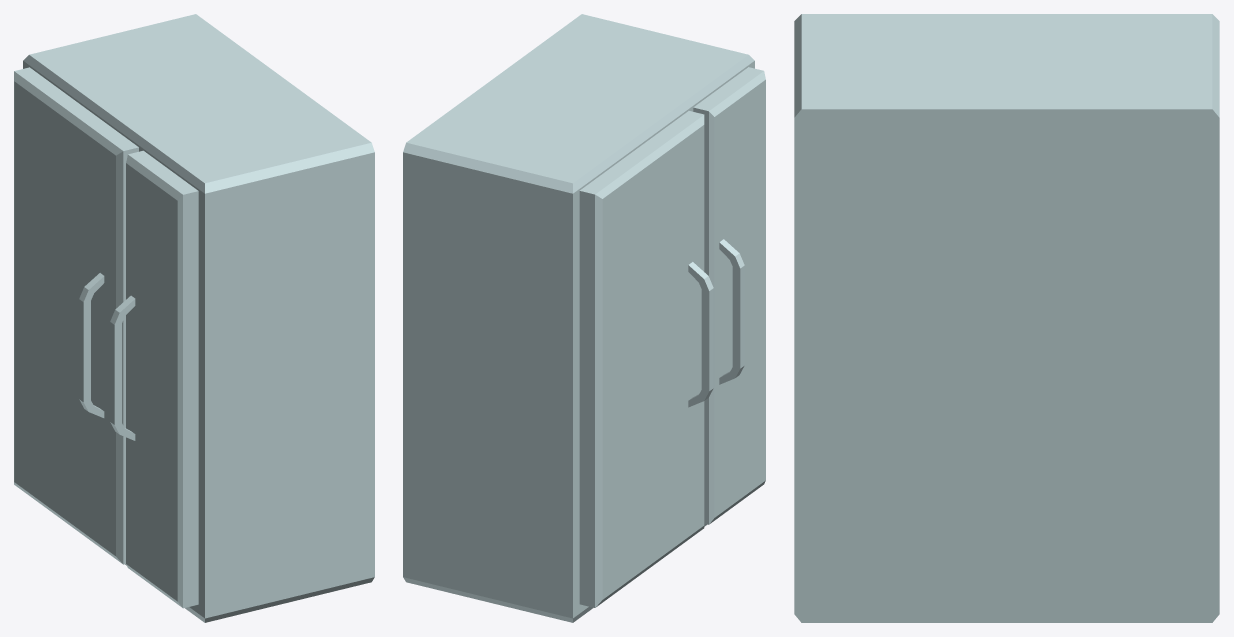
Rendered from fridge.fbx.
The picture shows the model from 3 angles, left to right: view 1: azimuth 30°, elevation 25°; view 2: azimuth 150°, elevation 25°; view 3: azimuth 270°, elevation 25°; orthographic projection. The views are drawn at different scales.
Parts seen in each view (by area): view 1: fridge; view 2: fridge; view 3: fridge.
Boxes of the visible parts, left/top/right/bottom form: fridge: left=14, top=14, right=374, bottom=622; fridge: left=403, top=14, right=765, bottom=622; fridge: left=794, top=14, right=1219, bottom=622.
Bounding box in the file's own units: 100 × 200 × 150.
